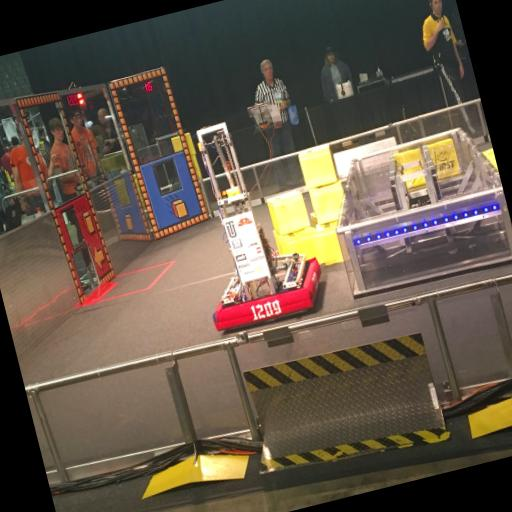robot: (168, 109, 332, 336)
